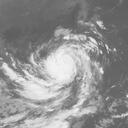cyclone: (27, 34, 95, 100)
